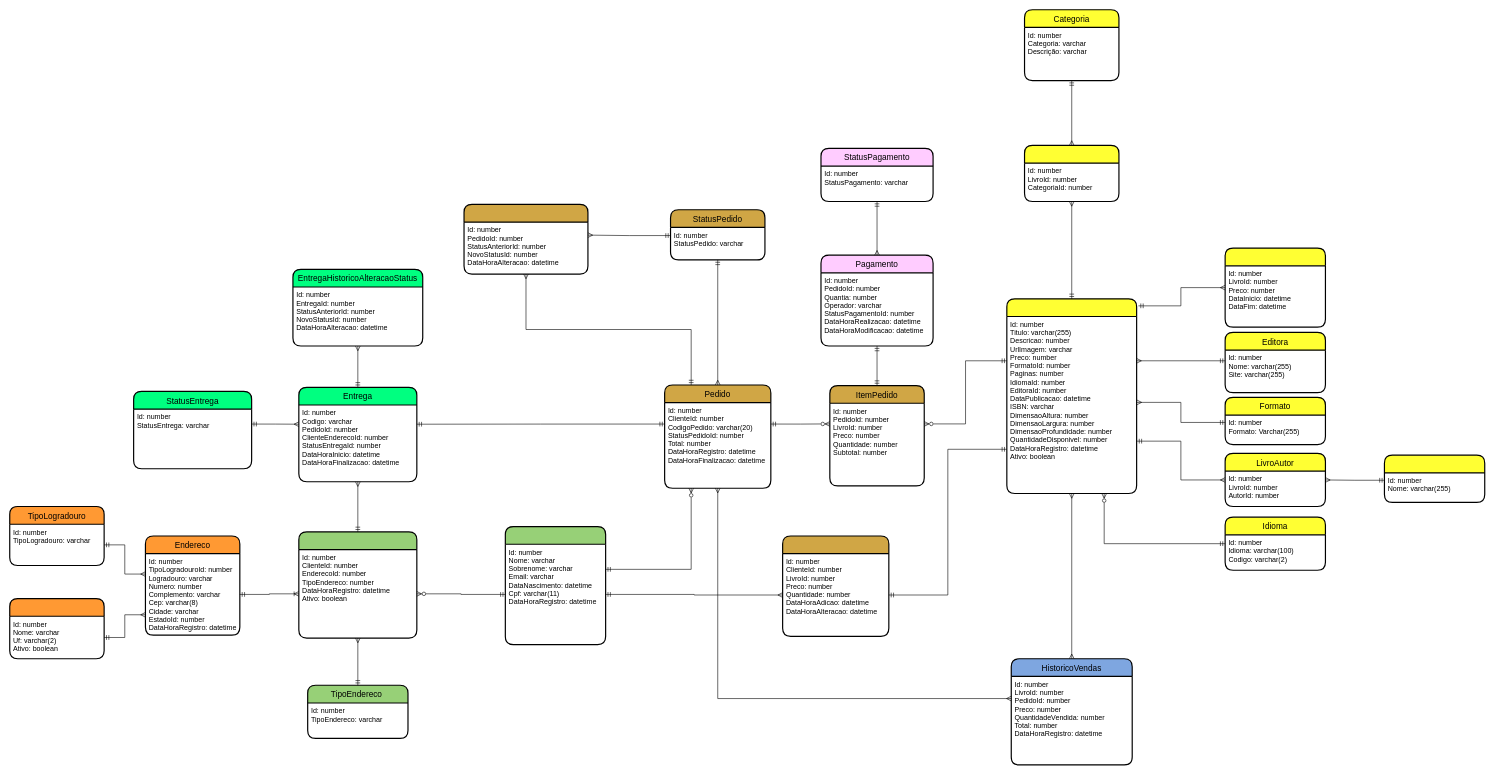
This 1494x775 diagram has some shape labels left out. Each missing label, with the box of its shape:
Autor: (1384, 454, 1485, 503)
Cliente: (504, 526, 606, 645)
ClienteEndereco: (298, 531, 417, 638)
Estado: (9, 598, 104, 659)
ItemCarrinho: (782, 535, 889, 637)
Livro: (1006, 298, 1137, 494)
LivroCategoria: (1024, 145, 1119, 202)
LivroHistoricoPreco: (1224, 247, 1326, 327)
PedidoHistoricoAlteracaoStatus: (463, 204, 588, 274)
